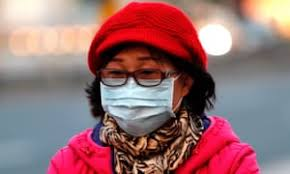masked: (85, 4, 206, 138)
